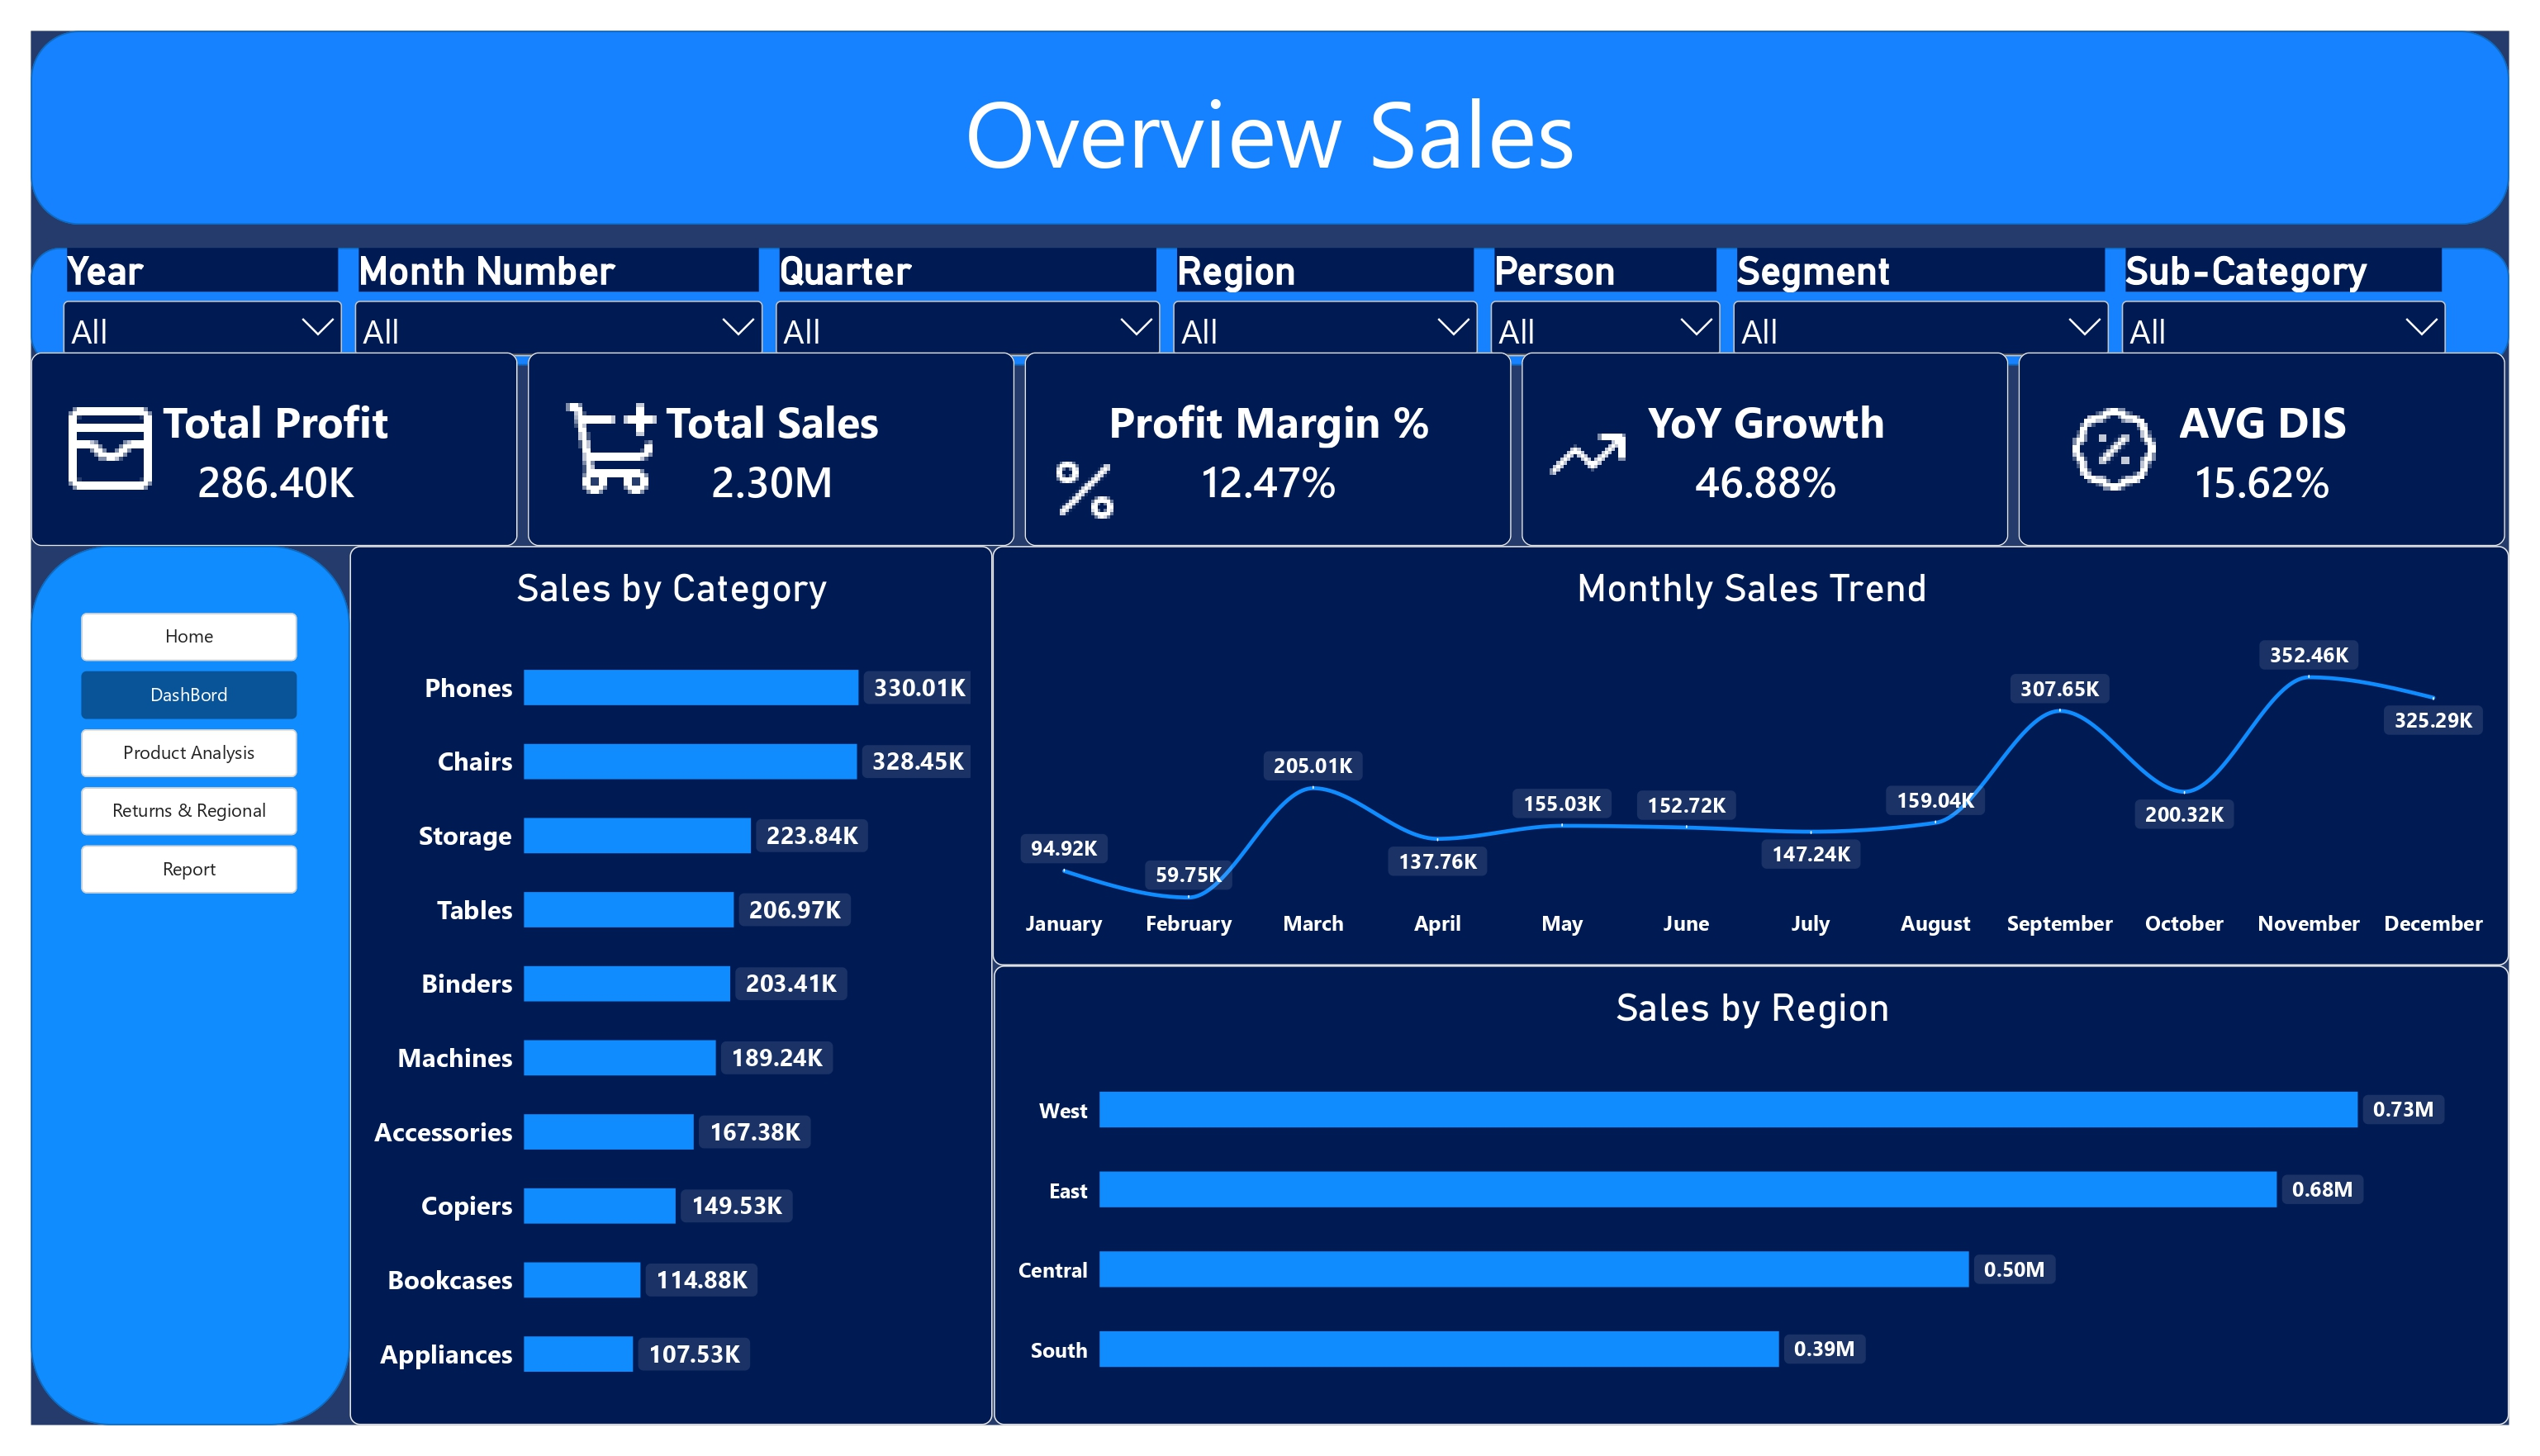

This screenshot's page, from the dashboard's own definition file:
{"tool":"powerbi","page":{"name":"DashBord","canvas":[1920,1080],"ordinal":1},"visuals":[{"type":"shape","box":[0,0,1920,150],"z":1000},{"type":"textbox","box":[0,28.3,1920,121.5],"z":2000},{"type":"shape","box":[0,168.1,1920,90.4],"z":3000},{"type":"slicer","fields":{"Values":["DateTable.Year"]},"box":[19.6,167.9,226.6,81.5],"z":4000},{"type":"slicer","fields":{"Values":["DateTable.Month Number"]},"box":[246.1,167.9,326,105.9],"z":5000},{"type":"slicer","fields":{"Values":["DateTable.Quarter"]},"box":[572.1,167.9,308,84.8],"z":6000},{"type":"slicer","fields":{"Values":["Orders.Region"]},"box":[880.1,167.9,246.1,86.4],"z":7000},{"type":"slicer","fields":{"Values":["People.Person"]},"box":[1126.2,167.9,187.4,84.8],"z":8000},{"type":"slicer","fields":{"Values":["Orders.Segment"]},"box":[1313.7,167.9,301.5,89.6],"z":9000},{"type":"slicer","fields":{"Values":["Orders.Sub-Category"]},"box":[1615.2,167.9,260.8,89.6],"z":10000},{"type":"cardVisual","fields":{"Data":["DAX Measures.Total Profit","DAX Measures.Total Sales","DAX Measures.Profit Margin %","DAX Measures.YoY Growth","DAX Measures.AVG DIS"]},"box":[0,248.7,1920,150],"z":11000},{"type":"lineChart","title":"Monthly Sales Trend","fields":{"Category":["DateTable.Month Name"],"Y":["DAX Measures.Total Sales"]},"box":[745.4,398.8,1174.6,324.8],"z":12000},{"type":"barChart","title":"Sales by Category","fields":{"Y":["DAX Measures.Total Sales"],"Category":["Orders.Sub-Category"]},"box":[246.5,398.8,498.9,681.6],"z":13000},{"type":"clusteredBarChart","title":" Sales by Region","fields":{"Y":["DAX Measures.Total Sales"],"Category":["Orders.Region"]},"box":[746,724,1174,356],"z":14000},{"type":"shape","box":[0,399,247,681],"z":14500},{"type":"pageNavigator","box":[39.2,451,166.8,219],"z":15000},{"type":"image","box":[20,284.6,82.5,77.1],"z":15001},{"type":"image","box":[403,284.6,93.1,77.1],"z":15002},{"type":"image","box":[787.4,323.2,58.5,63.8],"z":15003},{"type":"image","box":[1174.4,293.9,63.8,67.8],"z":15004},{"type":"image","box":[1578.8,284.6,70.5,78.5],"z":15005}]}

Visuals, with their boxes on the page's 1920x1080 design canvas (x1, y1, x2, y2). These are canvas units, not pixel positions in the 2540x1456 screenshot, which may show the page scaled, cropped or inside an application window:
shape: [left=0, top=0, right=1920, bottom=150]
textbox: [left=0, top=28, right=1920, bottom=150]
shape: [left=0, top=168, right=1920, bottom=258]
slicer - DateTable.Year: [left=20, top=168, right=246, bottom=249]
slicer - DateTable.Month Number: [left=246, top=168, right=572, bottom=274]
slicer - DateTable.Quarter: [left=572, top=168, right=880, bottom=253]
slicer - Orders.Region: [left=880, top=168, right=1126, bottom=254]
slicer - People.Person: [left=1126, top=168, right=1314, bottom=253]
slicer - Orders.Segment: [left=1314, top=168, right=1615, bottom=258]
slicer - Orders.Sub-Category: [left=1615, top=168, right=1876, bottom=258]
cardVisual - DAX Measures.Total Profit x DAX Measures.Total Sales: [left=0, top=249, right=1920, bottom=399]
"Monthly Sales Trend" lineChart: [left=745, top=399, right=1920, bottom=724]
"Sales by Category" barChart: [left=246, top=399, right=745, bottom=1080]
" Sales by Region" clusteredBarChart: [left=746, top=724, right=1920, bottom=1080]
shape: [left=0, top=399, right=247, bottom=1080]
pageNavigator: [left=39, top=451, right=206, bottom=670]
image: [left=20, top=285, right=102, bottom=362]
image: [left=403, top=285, right=496, bottom=362]
image: [left=787, top=323, right=846, bottom=387]
image: [left=1174, top=294, right=1238, bottom=362]
image: [left=1579, top=285, right=1649, bottom=363]
